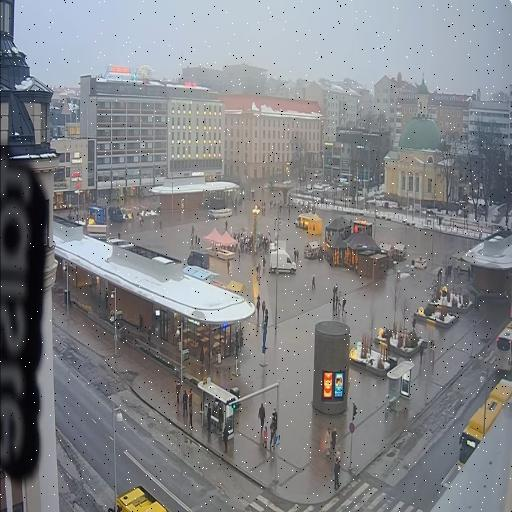Bus: (459, 380, 512, 470), (116, 487, 169, 511), (495, 319, 512, 371)
